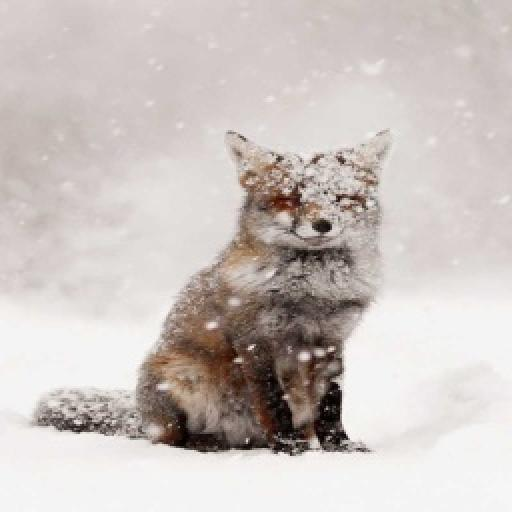zorro: (34, 130, 388, 450)
